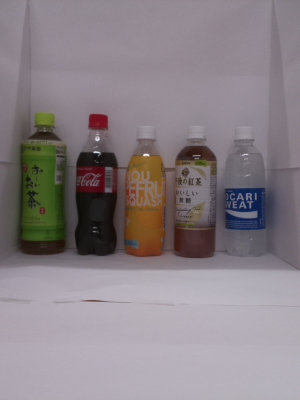おーいお茶: (19, 107, 70, 260)
グレープフルーツスカッシュ: (119, 121, 169, 263)
コーラ: (71, 110, 120, 260)
ポカリスエット: (219, 123, 269, 266)
午後の紅茶: (170, 123, 219, 267)
